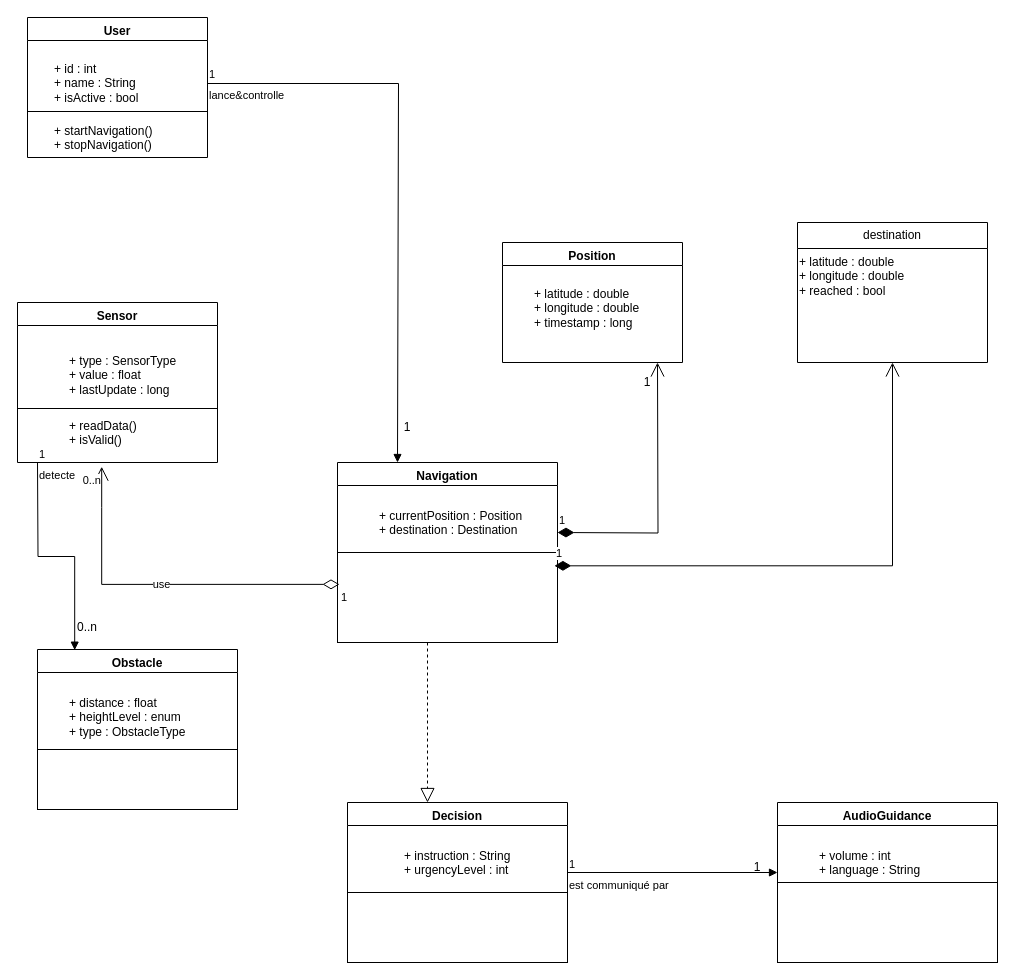
This 1015x980 diagram has some shape labels left out. The centre of each missing label's shape, as x and y in pixels:
"+ computeRoute() + detectDeviation() + updatePosition()" goes at (447,597).
"+ generate() + isCritical()" goes at (457,927).
"+ isDangerous() + getDescription()" goes at (137,779).
"+ speakInstruction(decision) + stopAudio()" goes at (887,922).
